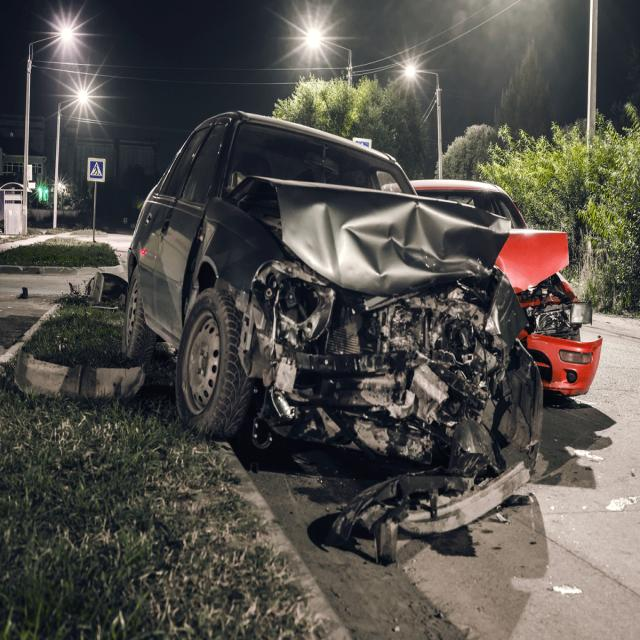crush: (182, 176, 543, 564), (493, 229, 602, 397)
